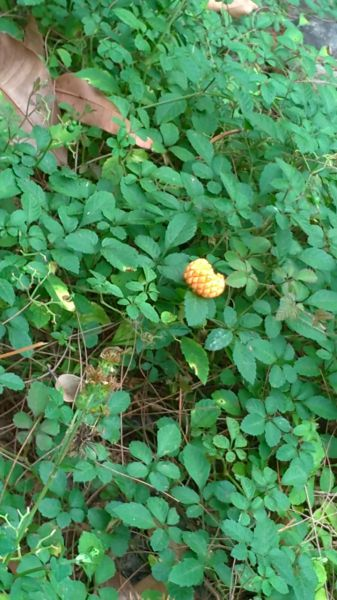eggs: (178, 254, 230, 304)
